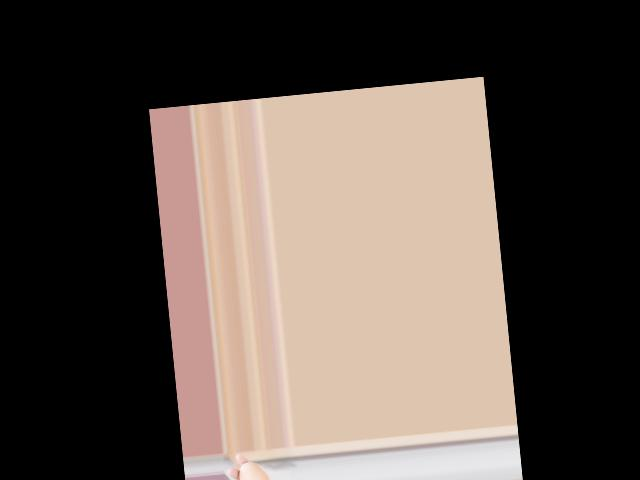egg: (237, 460, 270, 480)
